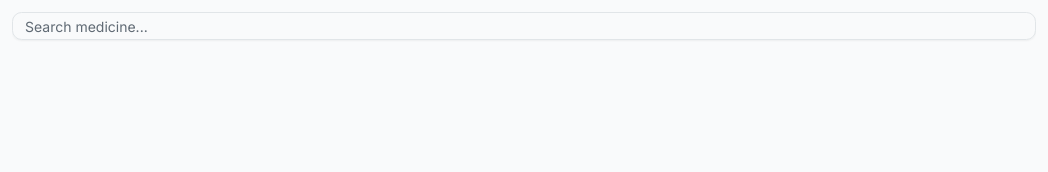
Scenario: MedicineSelect › shows stock quantity next to product name
Focus the dropdown at (524, 26), box [12, 12, 1036, 40]
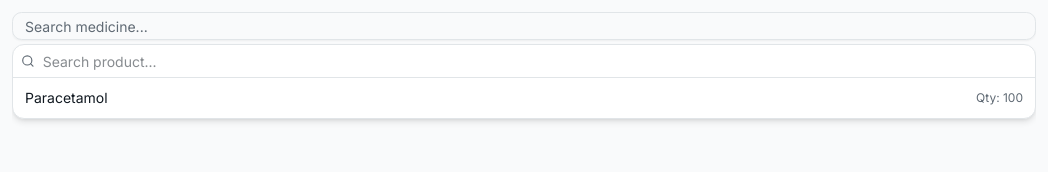
Result: the text "Paracetamol" is shown at [25, 88, 108, 108]
Result: the text "Qty: 100" is shown at [976, 90, 1023, 106]
